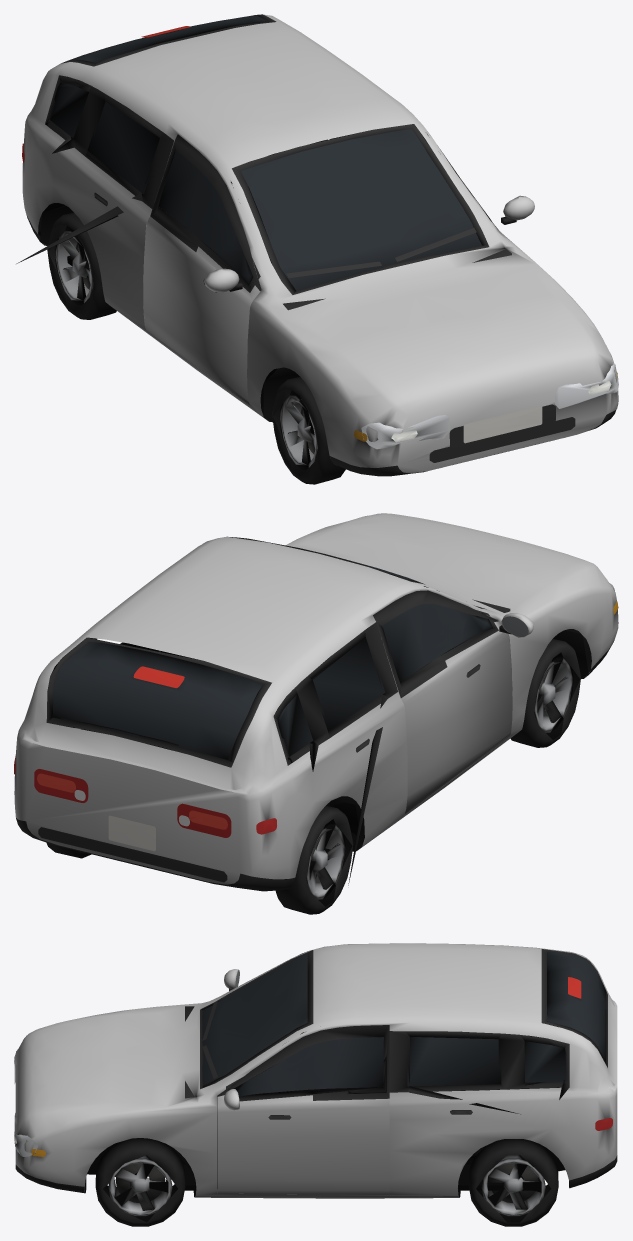
The model's file is car-hatch-lo-v2.glb.
The picture shows the model from 3 angles, top to bottom: view 1: azimuth 30°, elevation 25°; view 2: azimuth 150°, elevation 25°; view 3: azimuth 270°, elevation 25°; orthographic projection. The views are drawn at different scales.
Parts seen in each view (by area): view 1: body, door_R, wheel_FR, wheel_RR, door_L; view 2: body, door_R, wheel_RR, wheel_FR; view 3: body, door_L, wheel_FL, wheel_RL.
Boxes of the visible parts, x1,y1,x2,y2 form: body: [16, 14, 618, 476]; door_R: [143, 134, 261, 404]; wheel_FR: [272, 377, 345, 484]; wheel_RR: [47, 212, 116, 319]; door_L: [416, 127, 534, 237]; body: [14, 513, 618, 891]; door_R: [373, 590, 533, 813]; wheel_RR: [275, 806, 353, 914]; wheel_FR: [510, 639, 580, 747]; body: [14, 943, 617, 1198]; door_L: [217, 1025, 389, 1194]; wheel_FL: [95, 1138, 185, 1226]; wheel_RL: [468, 1139, 558, 1226].
Bounding box in the file's own units: 2.19 × 1.53 × 4.17.
